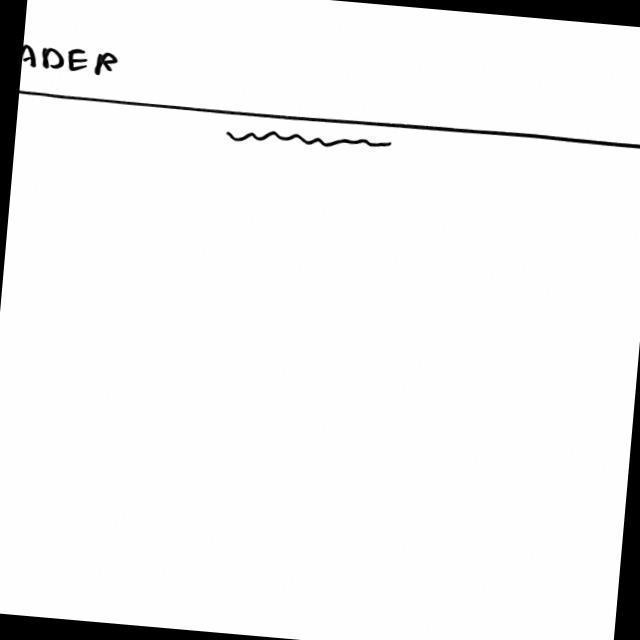label: (22, 41, 122, 80)
text: (227, 126, 396, 159)
